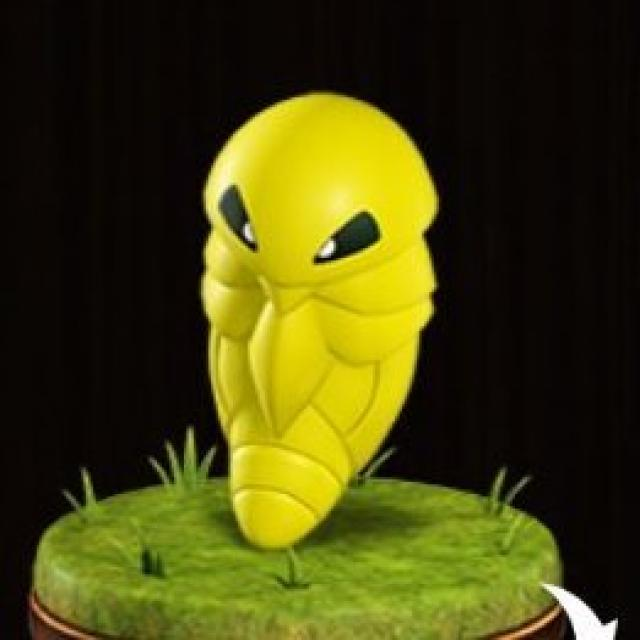Kakuna: (184, 86, 454, 549)
